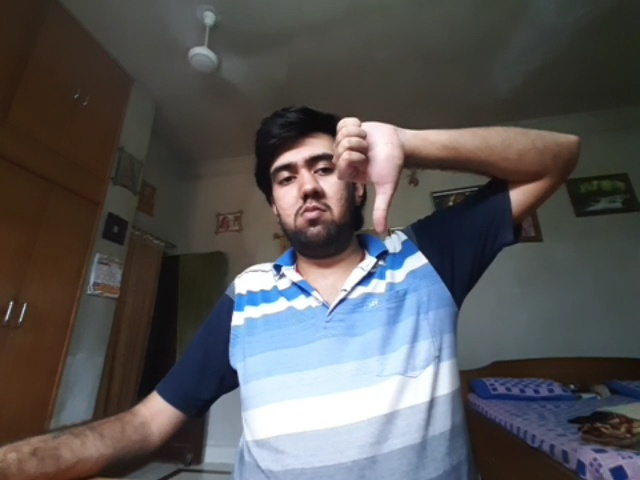NotOk: (334, 117, 402, 234)
